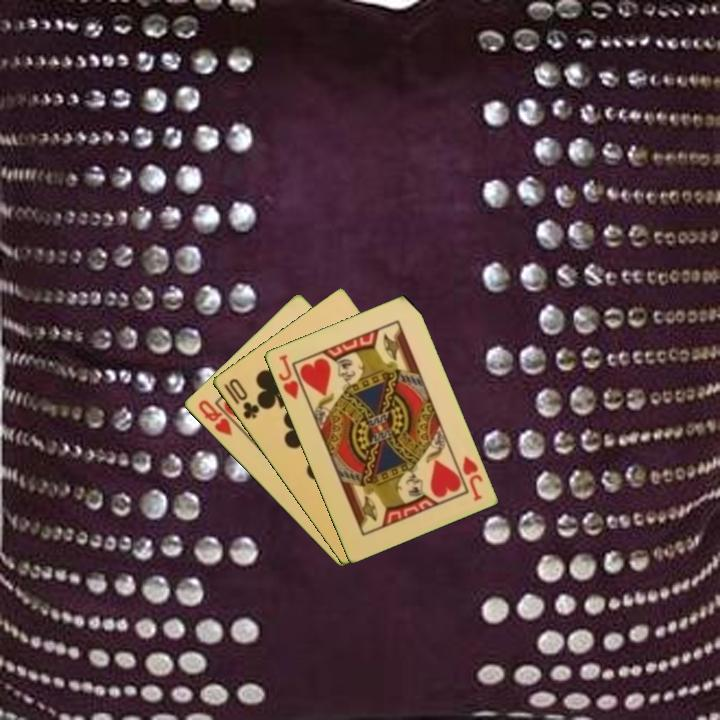10c: (220, 375, 262, 422)
Jh: (458, 452, 485, 504), (274, 351, 301, 402)
Qh: (194, 396, 235, 439)
